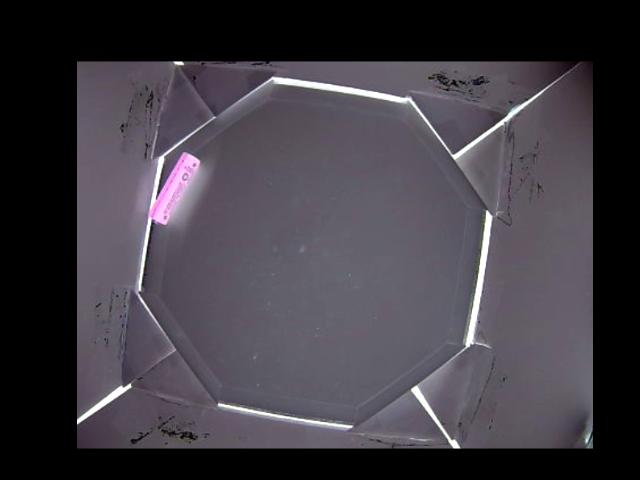Battery: (148, 151, 201, 225)
